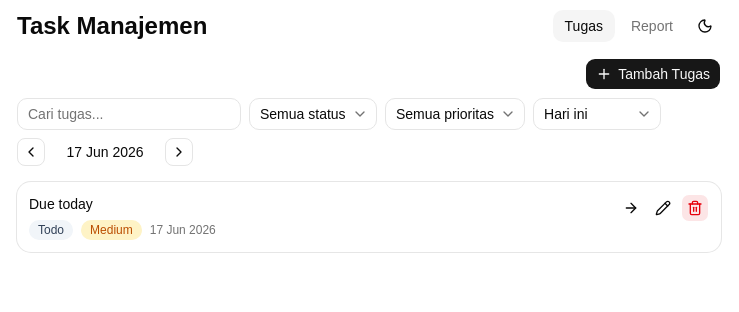
Test: HomePage › shows every task after choosing all dates
Click the dropdown named "Filter tanggal". click: (597, 114)
box: left=533, top=98, right=661, bottom=130
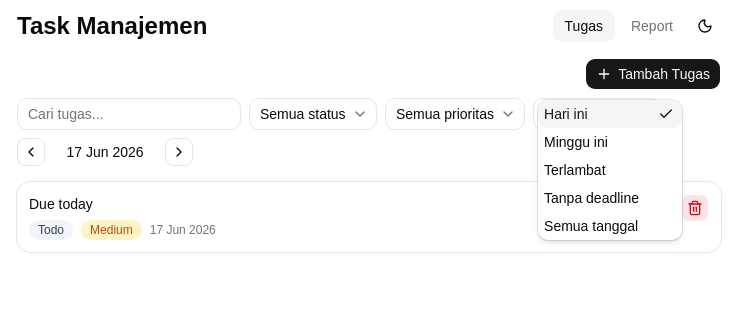
Click the option "Semua tanggal". click: (591, 226)
box: left=544, top=218, right=638, bottom=234
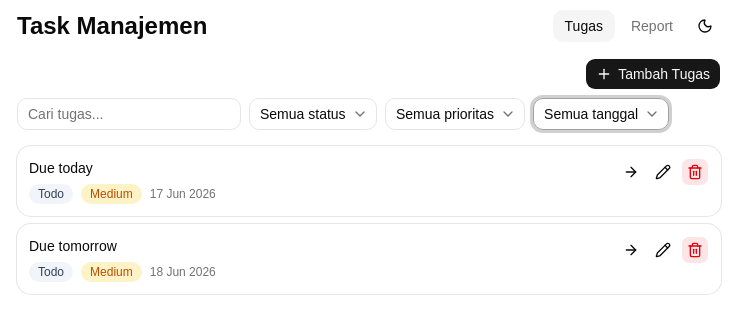
Check: the text "Due tomorrow" is shown, box left=29, top=238, right=117, bottom=254
